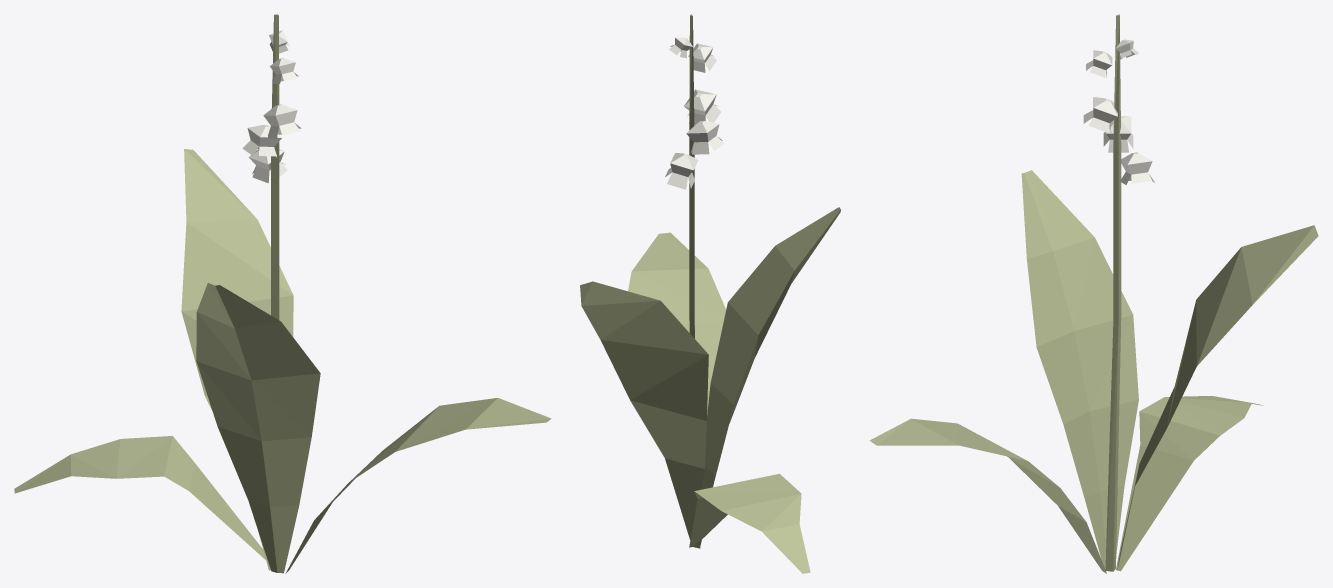
File: ConvallariaMajalis.glb
3 views of the same model, side by side, from view 1: azimuth 30°, elevation 25°; view 2: azimuth 150°, elevation 25°; view 3: azimuth 270°, elevation 25° (orthographic). The views are drawn at different scales.
Parts seen in each view (by area): view 1: Trunk, Crown; view 2: Trunk, Crown; view 3: Trunk, Crown.
Part boxes in pixels (left/top/right/bottom): Trunk: left=14, top=14, right=551, bottom=573; Crown: left=242, top=30, right=301, bottom=183; Trunk: left=580, top=14, right=840, bottom=573; Crown: left=665, top=37, right=724, bottom=189; Trunk: left=869, top=14, right=1318, bottom=573; Crown: left=1083, top=39, right=1154, bottom=184.
Bounding box in the file's own units: 0.1537 × 0.234 × 0.1714.
